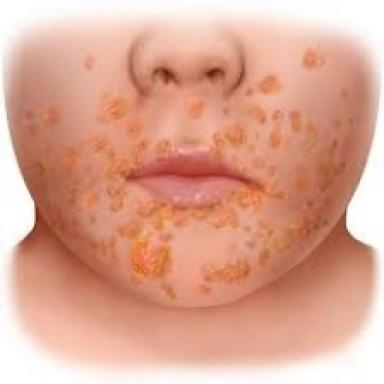Impetigo: (115, 182, 291, 282), (241, 192, 338, 279), (89, 137, 149, 212), (65, 144, 98, 207), (199, 259, 251, 295), (315, 138, 347, 192), (68, 231, 116, 258), (211, 124, 247, 159), (97, 95, 127, 121), (289, 166, 312, 198), (303, 44, 325, 69), (39, 103, 61, 127), (270, 109, 283, 148), (123, 116, 144, 140), (184, 97, 205, 119), (259, 74, 281, 94), (305, 121, 317, 153), (156, 139, 172, 162), (247, 104, 266, 123), (161, 282, 177, 299), (289, 111, 301, 132), (84, 54, 97, 71), (31, 161, 45, 176), (245, 87, 253, 96)
